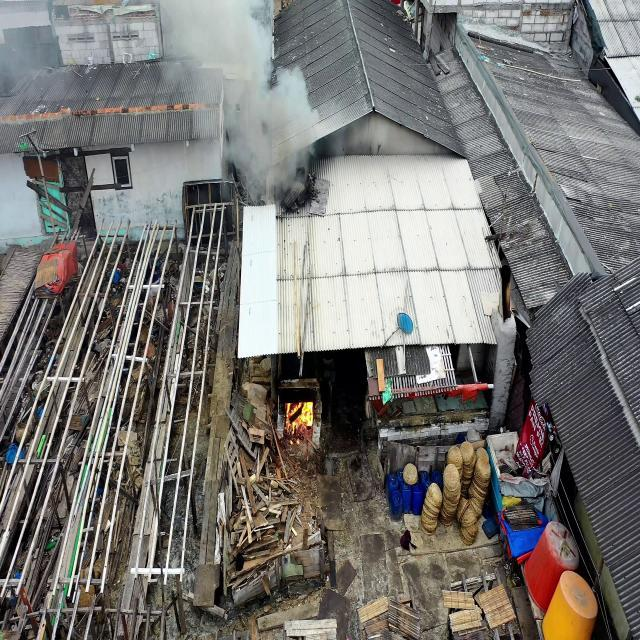Fire: (285, 395, 315, 444)
Smoke: (163, 0, 322, 208)
